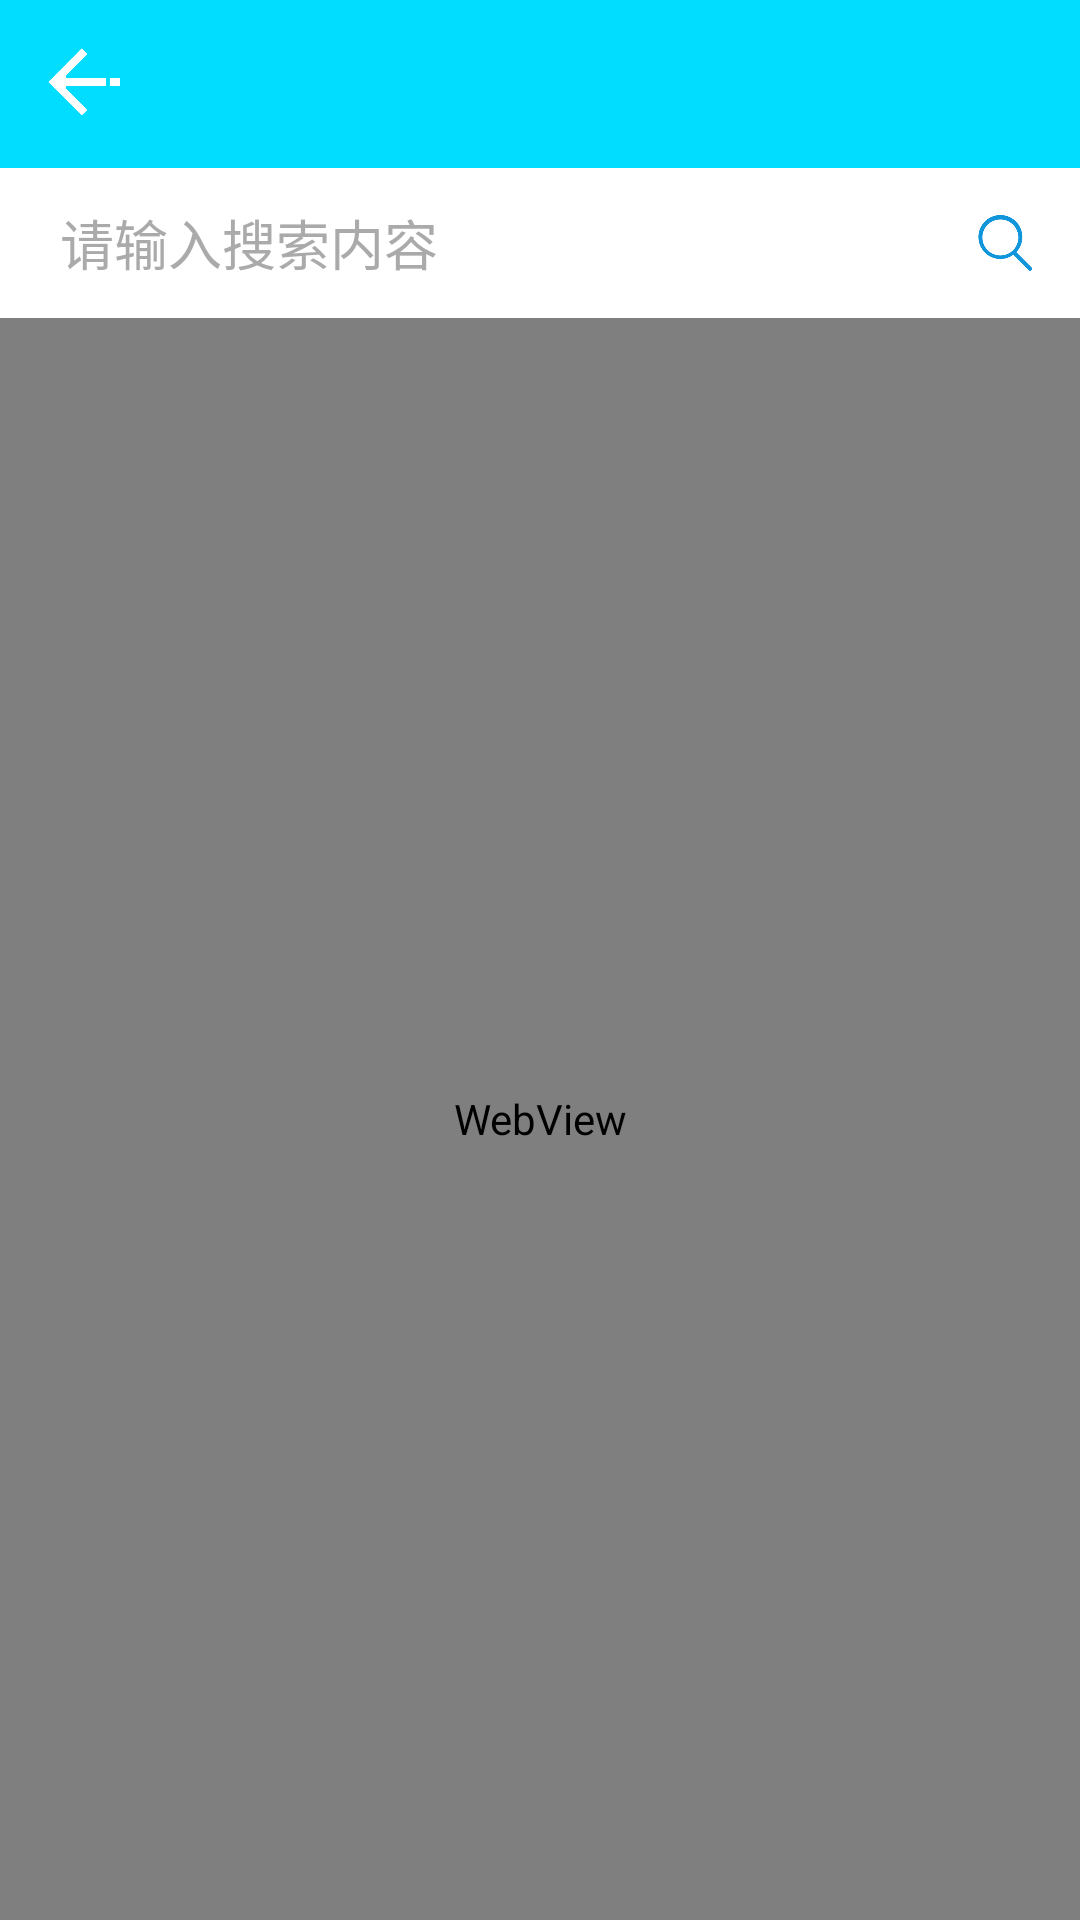

Screen size 1080 x 1920. Icon name, then its center in pixels as (x,y):
back: (84,81)
serach: (1005,243)
